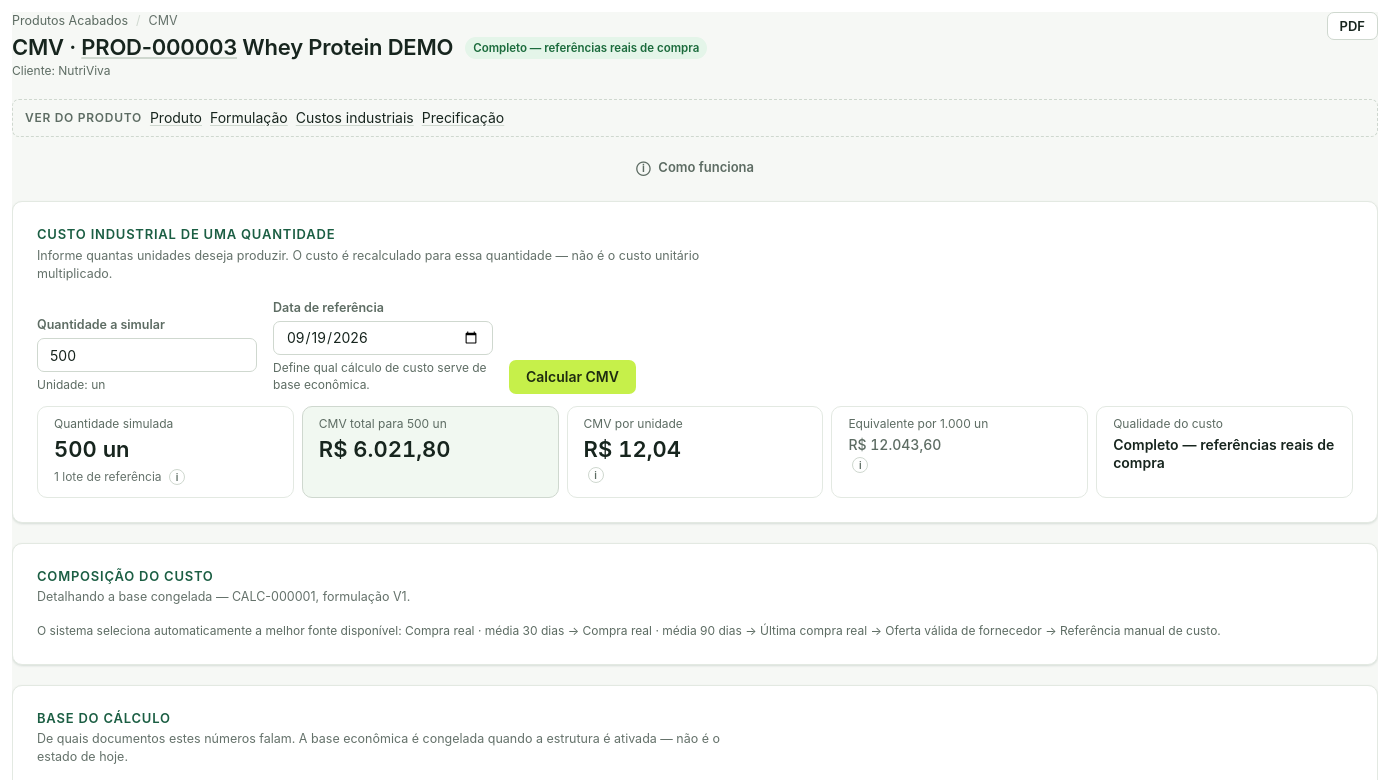
Test: CalcHint do CMV por unidade › divide pela quantidade simulada e a conta fecha sem alerta
Expected: the text "R$ 12,04" is shown, [584,436,681,462]
Step 1. Click the button named "Ajuda sobre CMV por unidade" → click(596, 475), box [588,467,604,483]
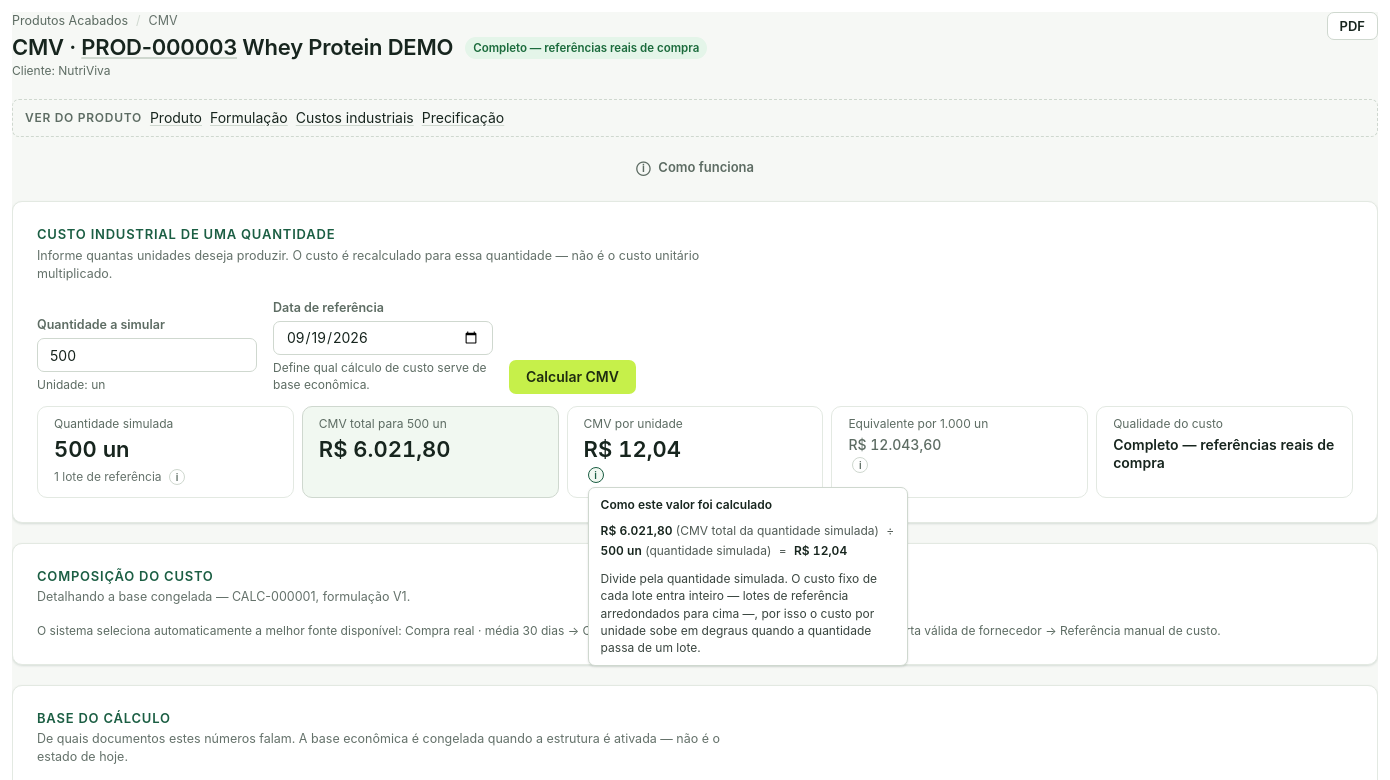
Expected: the 1st text "500 un" is shown, [54,436,130,462]
Expected: the text "(quantidade simulada)" is shown, [642,543,771,558]
Expected: the text "Divide pela quantidade simulada" is shown, [601,571,877,655]
